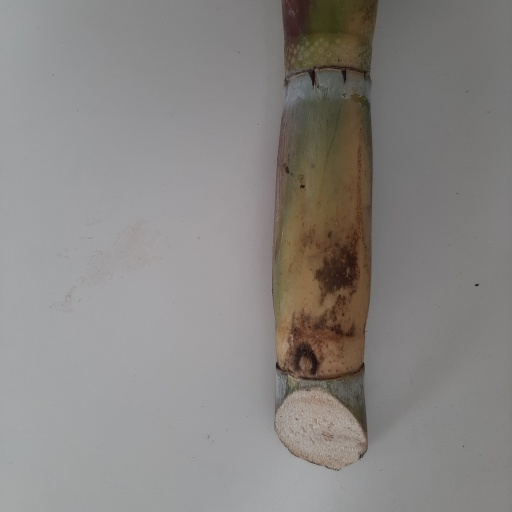Bud: (296, 350, 318, 379)
